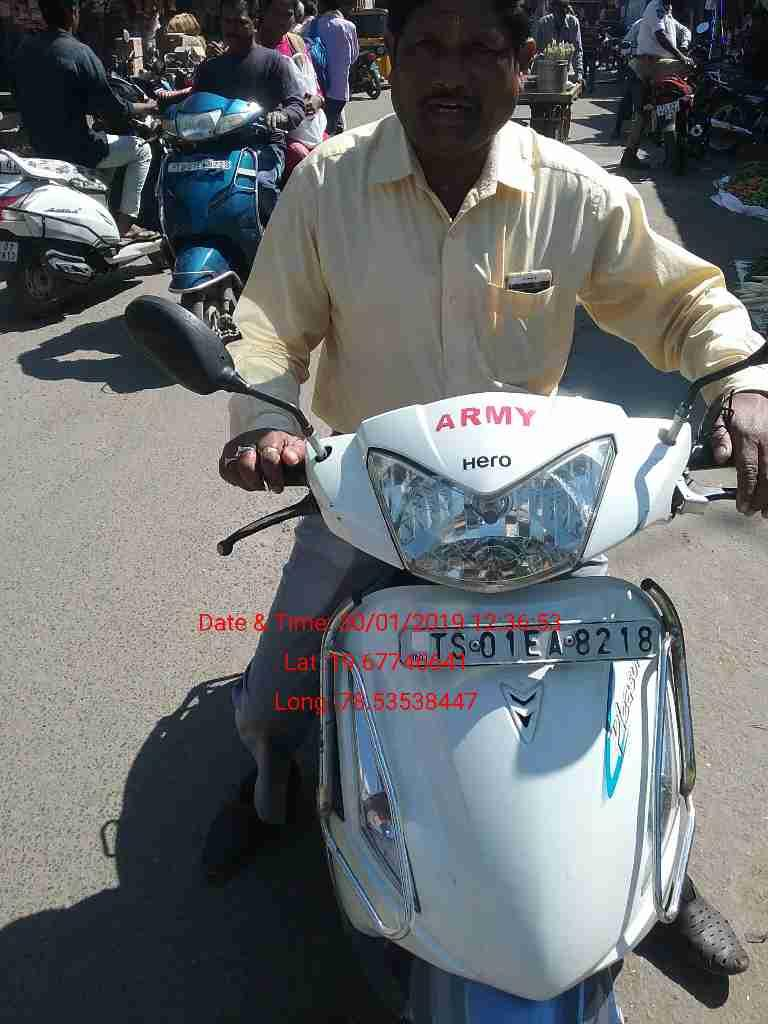plate: (397, 621, 665, 672)
